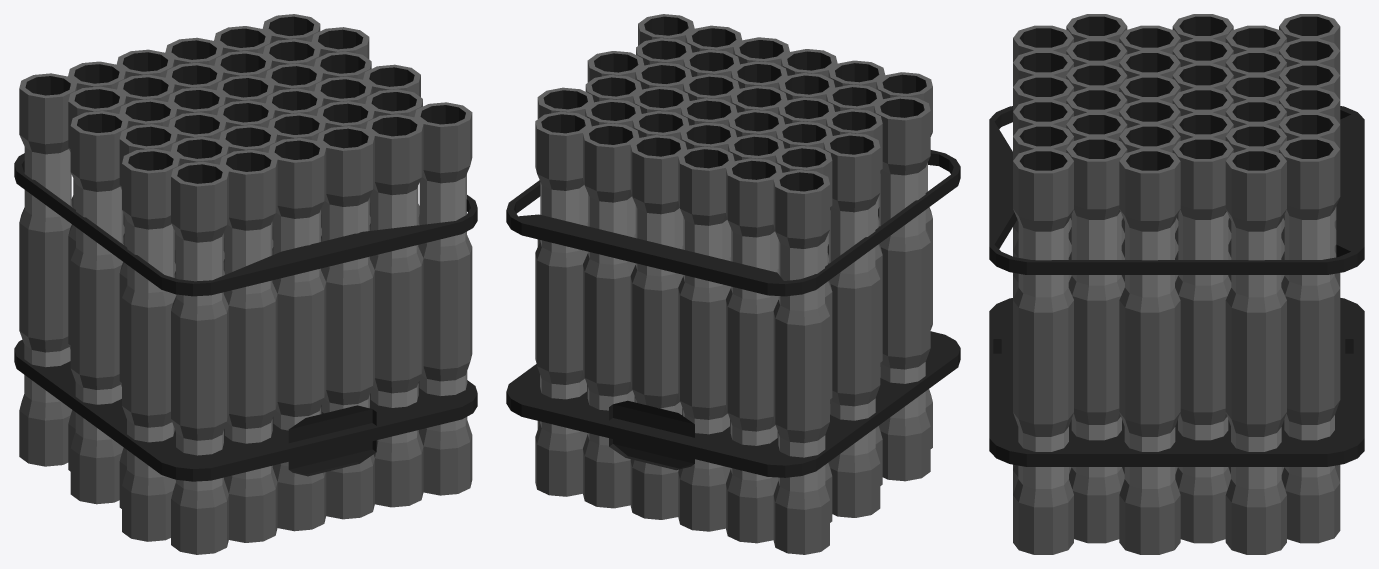
Rendered from crates.glb.
3 renders of one model, left to right at view 1: azimuth 30°, elevation 25°; view 2: azimuth 150°, elevation 25°; view 3: azimuth 270°, elevation 25°, orthographic. The views are drawn at different scales.
Parts seen in each view (by area): view 1: Crate4; view 2: Crate4; view 3: Crate4.
Part boxes in pixels (x1,y1,x2,y2): Crate4: (14, 14, 477, 554); Crate4: (506, 14, 960, 554); Crate4: (989, 14, 1364, 554).
Size of the model in its own units: 0.5951 by 0.6645 by 0.5924.
Materials: 1 (1 with a texture image).
